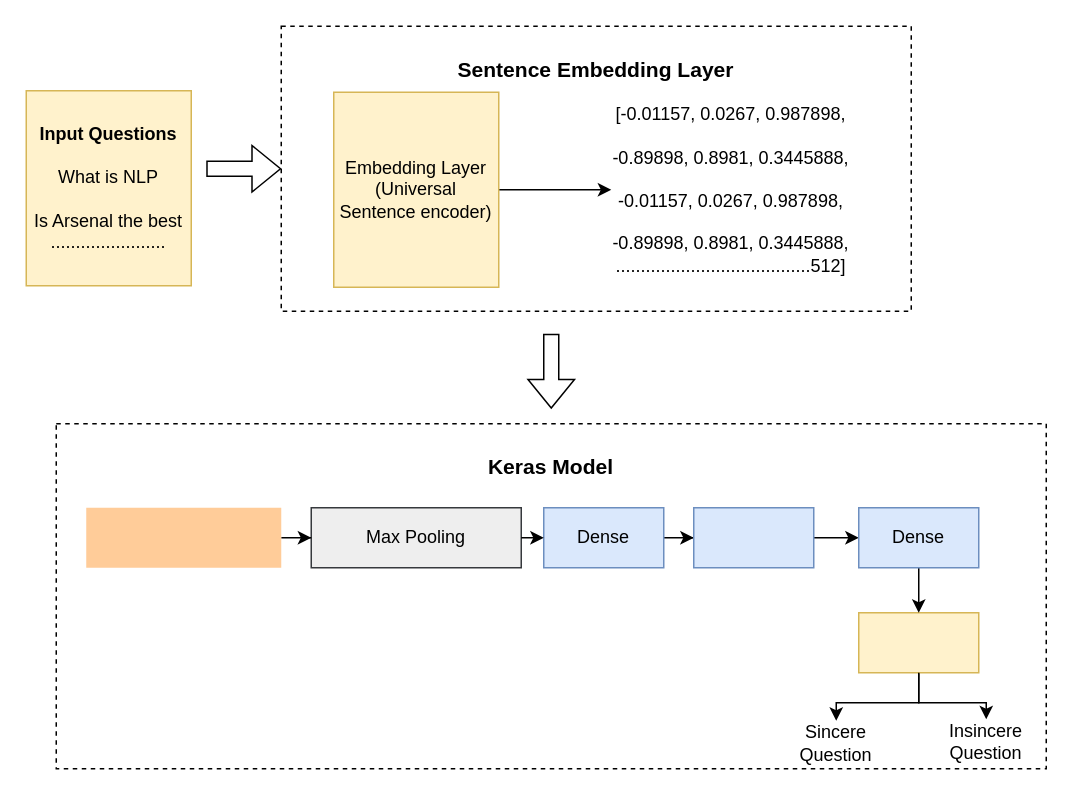
The diagram is 1073 pixels wide and 795 high, and some of its shapes have lost their labels. The centre of each missing label's shape, as x and y in pixels:
Bi-Directional GRU: point (183, 537)
Dropout: point (753, 537)
Sigmoid: point (918, 642)
